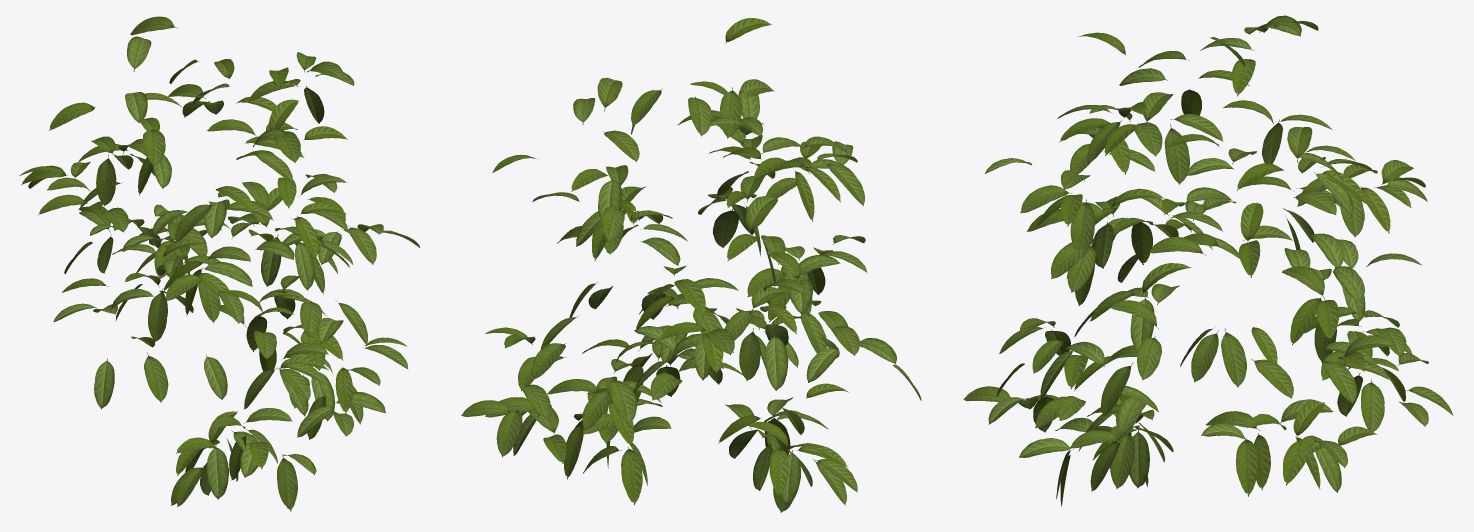
Rendered from SM_StelechocarpusBurahol_Y_LOD1.fbx.
3 views of the same model, side by side, from view 1: azimuth 30°, elevation 25°; view 2: azimuth 150°, elevation 25°; view 3: azimuth 270°, elevation 25° (orthographic). The views are drawn at different scales.
Visible parts, largest first — view 1: MI_LOD1_003, MI_LOD1_001, MI_LOD1_002; view 2: MI_LOD1_003, MI_LOD1_002, MI_LOD1_001; view 3: MI_LOD1_003, MI_LOD1_002, MI_LOD1_001.
Boxes of the visible parts, bbox=[...] form: MI_LOD1_003: bbox=[19, 16, 419, 508]; MI_LOD1_001: bbox=[28, 36, 385, 499]; MI_LOD1_002: bbox=[21, 59, 353, 511]; MI_LOD1_003: bbox=[461, 77, 867, 512]; MI_LOD1_002: bbox=[485, 18, 849, 505]; MI_LOD1_001: bbox=[513, 90, 921, 504]; MI_LOD1_003: bbox=[963, 20, 1453, 499]; MI_LOD1_002: bbox=[996, 24, 1425, 506]; MI_LOD1_001: bbox=[985, 15, 1427, 492].
Size of what is drawn, in the model's own units: 169 by 199 by 188.
